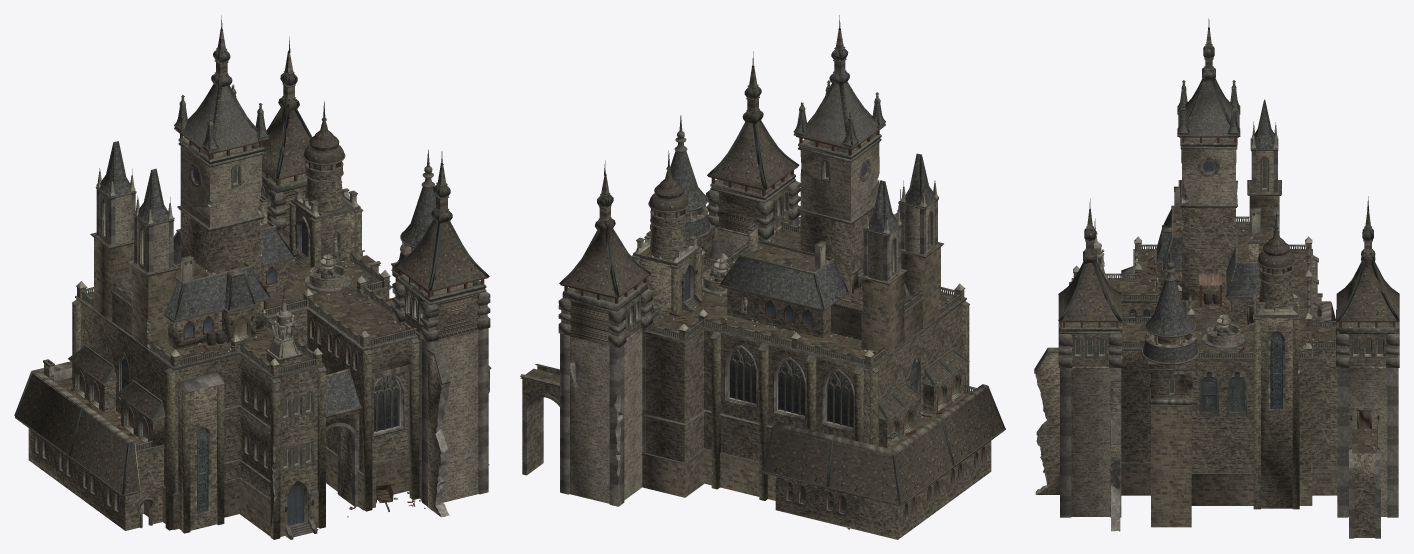
The model's file is darkfantasy_diorama.glb.
The picture shows the model from 3 angles, left to right: view 1: azimuth 30°, elevation 25°; view 2: azimuth 150°, elevation 25°; view 3: azimuth 270°, elevation 25°; orthographic projection. The views are drawn at different scales.
Parts seen in each view (by area): view 1: KB3D_DKF_BldgLG_B_Main, KB3D_DKF_BldgLG_B_BuildingA, KB3D_DKF_BldgLG_B_TowerA, KB3D_DKF_BldgLG_B_TowerB, KB3D_DKF_BldgLG_B_TowerF, KB3D_DKF_BldgLG_B_TowerG, KB3D_DKF_BldgLG_B_TowerE, KB3D_DKF_BldgLG_B_TowerC, KB3D_DKF_BldgLG_B_TowerH, KB3D_DKF_BldgLG_B_Fountain; view 2: KB3D_DKF_BldgLG_B_Main, KB3D_DKF_BldgLG_B_TowerB, KB3D_DKF_BldgLG_B_BuildingA, KB3D_DKF_BldgLG_B_TowerA, KB3D_DKF_BldgLG_B_TowerG, KB3D_DKF_BldgLG_B_TowerF, KB3D_DKF_BldgLG_B_Bridge, KB3D_DKF_BldgLG_B_TowerE, KB3D_DKF_BldgLG_B_TowerC, KB3D_DKF_BldgLG_B_Fountain; view 3: KB3D_DKF_BldgLG_B_Main, KB3D_DKF_BldgLG_B_TowerB, KB3D_DKF_BldgLG_B_TowerA, KB3D_DKF_BldgLG_B_TowerC, KB3D_DKF_BldgLG_B_BuildingA, KB3D_DKF_BldgLG_B_Bridge, KB3D_DKF_BldgLG_B_TowerE, KB3D_DKF_BldgLG_B_TowerG, KB3D_DKF_BldgLG_B_Fountain, KB3D_DKF_BldgLG_B_Barrels.
Part boxes in pixels (left/top/right/bottom): KB3D_DKF_BldgLG_B_Main: left=14, top=151, right=491, bottom=539; KB3D_DKF_BldgLG_B_BuildingA: left=90, top=195, right=296, bottom=349; KB3D_DKF_BldgLG_B_TowerA: left=174, top=15, right=269, bottom=283; KB3D_DKF_BldgLG_B_TowerB: left=258, top=36, right=312, bottom=233; KB3D_DKF_BldgLG_B_TowerF: left=133, top=168, right=174, bottom=273; KB3D_DKF_BldgLG_B_TowerG: left=95, top=141, right=136, bottom=246; KB3D_DKF_BldgLG_B_TowerE: left=303, top=101, right=345, bottom=212; KB3D_DKF_BldgLG_B_TowerC: left=385, top=149, right=435, bottom=306; KB3D_DKF_BldgLG_B_TowerH: left=264, top=286, right=302, bottom=369; KB3D_DKF_BldgLG_B_Fountain: left=304, top=253, right=351, bottom=291; KB3D_DKF_BldgLG_B_Main: left=631, top=51, right=1005, bottom=539; KB3D_DKF_BldgLG_B_TowerB: left=558, top=160, right=652, bottom=506; KB3D_DKF_BldgLG_B_BuildingA: left=719, top=224, right=943, bottom=354; KB3D_DKF_BldgLG_B_TowerA: left=793, top=15, right=885, bottom=293; KB3D_DKF_BldgLG_B_TowerG: left=863, top=180, right=902, bottom=282; KB3D_DKF_BldgLG_B_TowerF: left=899, top=153, right=939, bottom=255; KB3D_DKF_BldgLG_B_Bridge: left=520, top=364, right=559, bottom=475; KB3D_DKF_BldgLG_B_TowerE: left=648, top=150, right=689, bottom=258; KB3D_DKF_BldgLG_B_TowerC: left=646, top=115, right=717, bottom=263; KB3D_DKF_BldgLG_B_Fountain: left=702, top=257, right=730, bottom=294; KB3D_DKF_BldgLG_B_Main: left=1034, top=198, right=1337, bottom=531; KB3D_DKF_BldgLG_B_TowerB: left=1336, top=196, right=1399, bottom=517; KB3D_DKF_BldgLG_B_TowerA: left=1177, top=18, right=1240, bottom=300; KB3D_DKF_BldgLG_B_TowerC: left=1141, top=247, right=1199, bottom=527; KB3D_DKF_BldgLG_B_BuildingA: left=1153, top=180, right=1281, bottom=324; KB3D_DKF_BldgLG_B_Bridge: left=1348, top=424, right=1380, bottom=538; KB3D_DKF_BldgLG_B_TowerE: left=1257, top=210, right=1295, bottom=309; KB3D_DKF_BldgLG_B_TowerG: left=1250, top=99, right=1278, bottom=193; KB3D_DKF_BldgLG_B_Fountain: left=1202, top=313, right=1245, bottom=348; KB3D_DKF_BldgLG_B_Barrels: left=1199, top=274, right=1228, bottom=308.
Bounding box in the file's own units: 35.84 × 42.6 × 33.42.
Materials: 25 (25 with a texture image).
